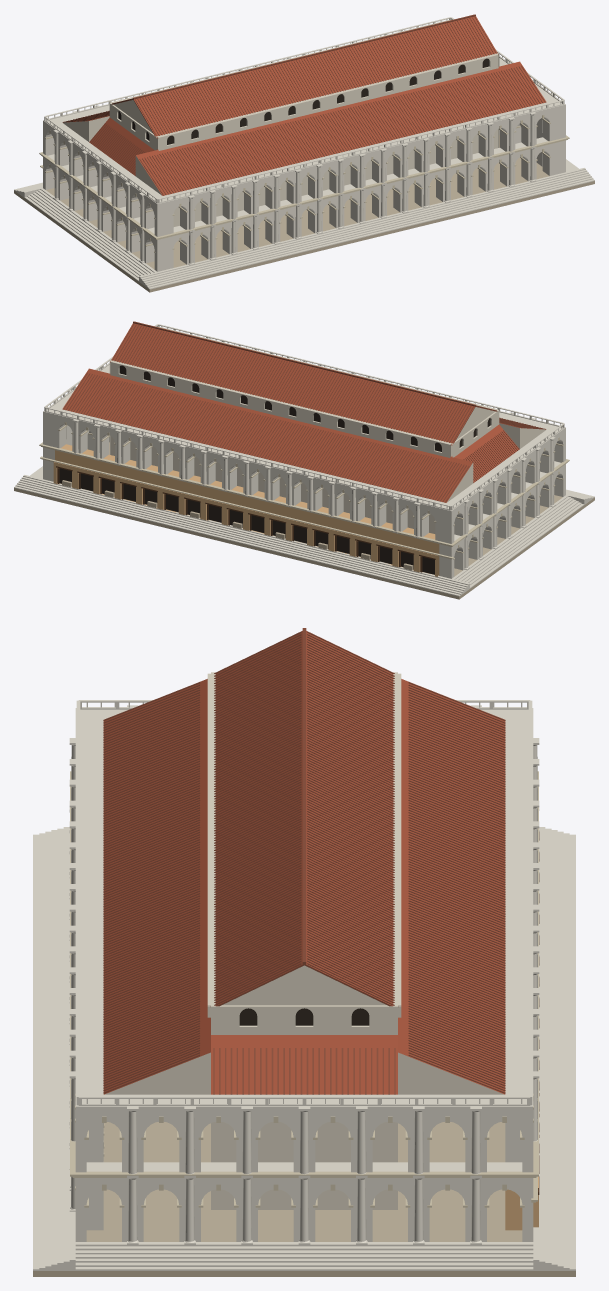
Rendered from rome_basilica_julia.glb.
3 renders of one model, top to bottom at view 1: azimuth 30°, elevation 25°; view 2: azimuth 150°, elevation 25°; view 3: azimuth 270°, elevation 25°, orthographic. The views are drawn at different scales.
Visible parts, largest first — view 1: rome_basilica_julia; view 2: rome_basilica_julia; view 3: rome_basilica_julia.
Part boxes in pixels (x1=…): rome_basilica_julia: x1=14, y1=14, x2=594, y2=292; rome_basilica_julia: x1=14, y1=321, x2=594, y2=599; rome_basilica_julia: x1=33, y1=628, x2=575, y2=1276.
Size of the model in its own units: 110 by 31.25 by 58.1.
